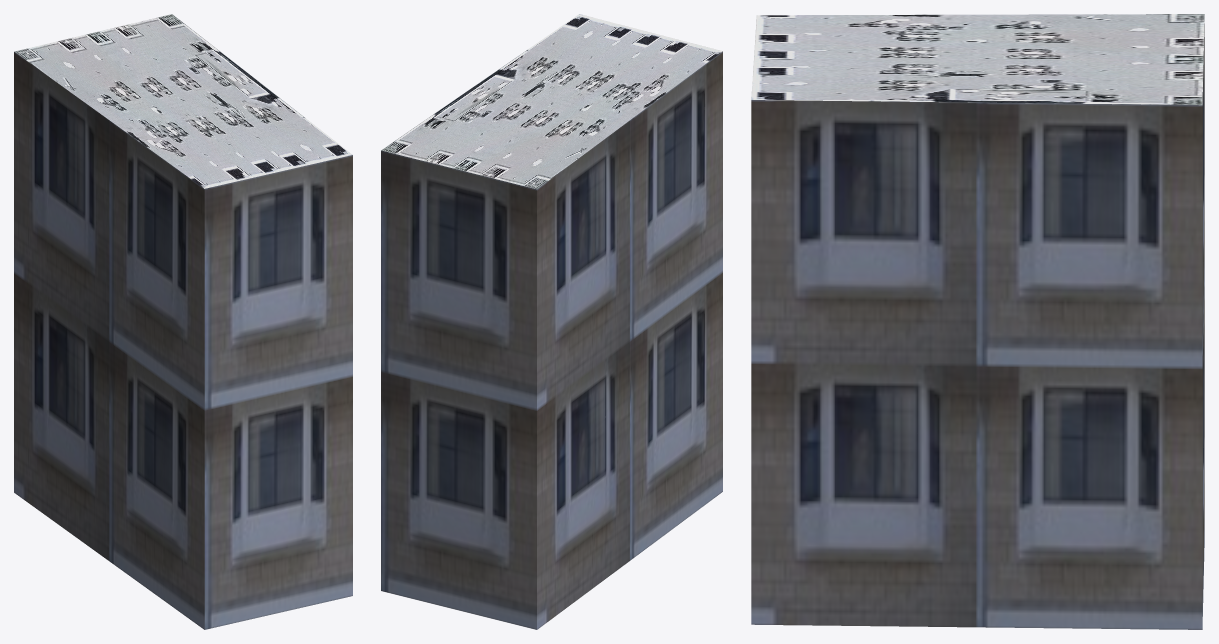
The model's file is ResTex__4656.fbx.
The picture shows the model from 3 angles, left to right: view 1: azimuth 30°, elevation 25°; view 2: azimuth 150°, elevation 25°; view 3: azimuth 270°, elevation 25°; orthographic projection. The views are drawn at different scales.
Visible parts, largest first — view 1: CityEngineMaterial_3_m, CityEngineMaterial_2_m; view 2: CityEngineMaterial_3_m, CityEngineMaterial_2_m; view 3: CityEngineMaterial_3_m, CityEngineMaterial_2_m.
Part boxes in pixels (x1=…): CityEngineMaterial_3_m: x1=14, y1=52, x2=352, y2=629; CityEngineMaterial_2_m: x1=14, y1=14, x2=352, y2=188; CityEngineMaterial_3_m: x1=381, y1=51, x2=722, y2=629; CityEngineMaterial_2_m: x1=381, y1=14, x2=722, y2=189; CityEngineMaterial_3_m: x1=751, y1=23, x2=1204, y2=629; CityEngineMaterial_2_m: x1=751, y1=14, x2=1204, y2=105.
Size of the model in its own units: 2.24 by 6 by 4.7.
Materials: 2 (2 with a texture image).
